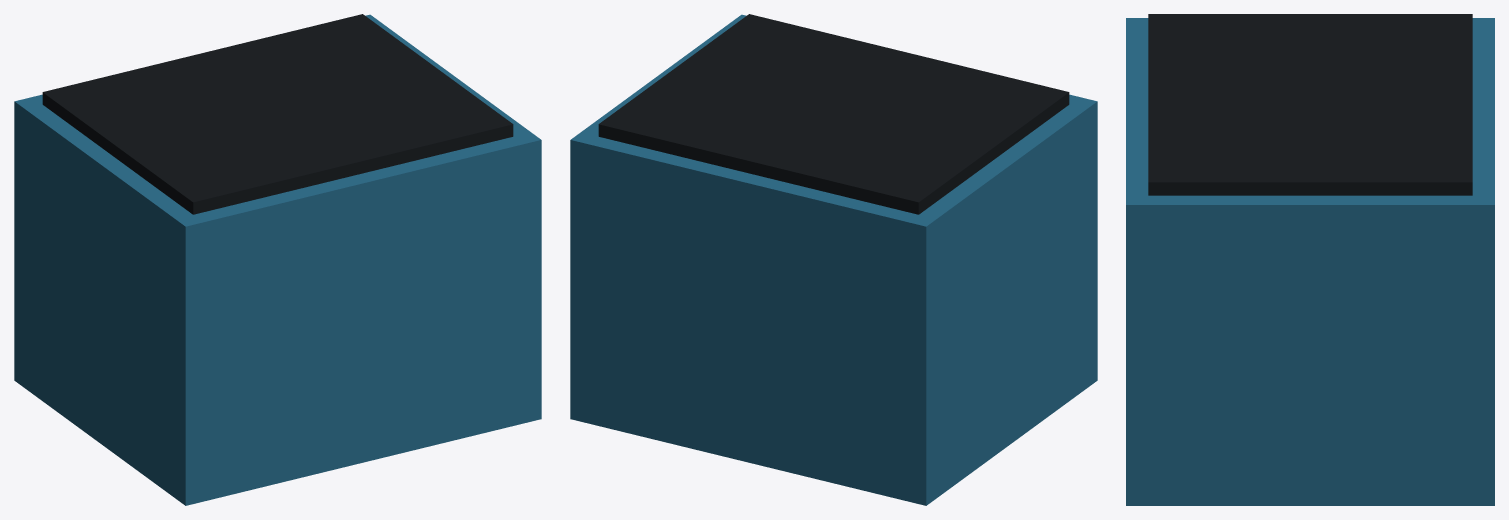
3 renders of one model, left to right at view 1: azimuth 30°, elevation 25°; view 2: azimuth 150°, elevation 25°; view 3: azimuth 270°, elevation 25°, orthographic. The views are drawn at different scales.
Parts seen in each view (by area): view 1: bin, opening; view 2: bin, opening; view 3: bin, opening.
Part boxes in pixels (left/top/right/bottom): bin: left=14, top=14, right=541, bottom=505; opening: left=42, top=14, right=513, bottom=214; bin: left=570, top=14, right=1097, bottom=505; opening: left=598, top=14, right=1069, bottom=214; bin: left=1126, top=18, right=1494, bottom=505; opening: left=1148, top=14, right=1472, bottom=195.
Bounding box in the file's own units: 0.6 × 0.47 × 0.5.
